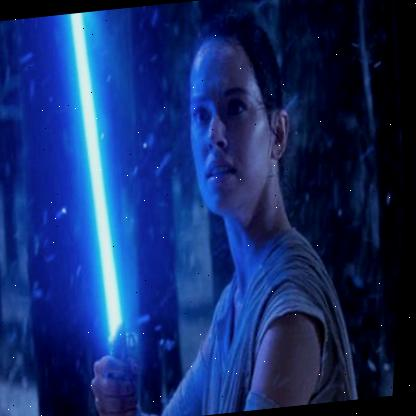lightsaber: (34, 9, 176, 416)
